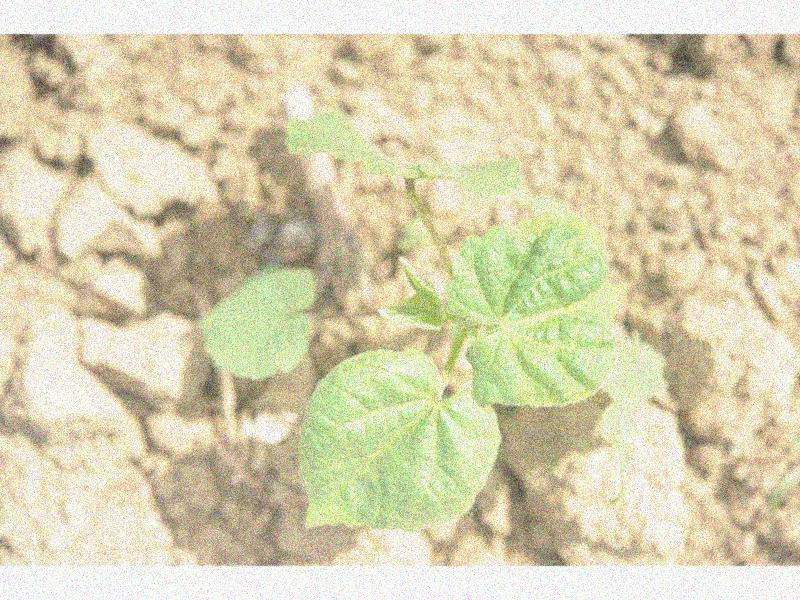velvet: (196, 106, 625, 533)
